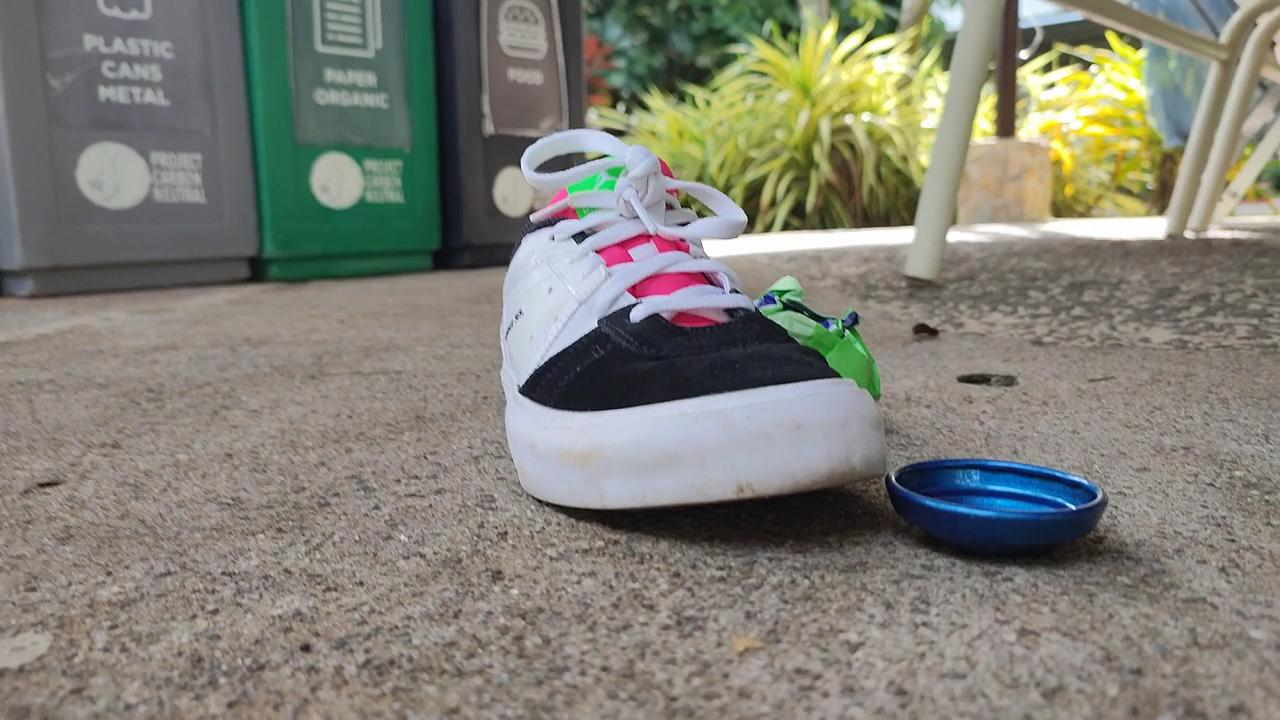Paper: (755, 260, 887, 418)
